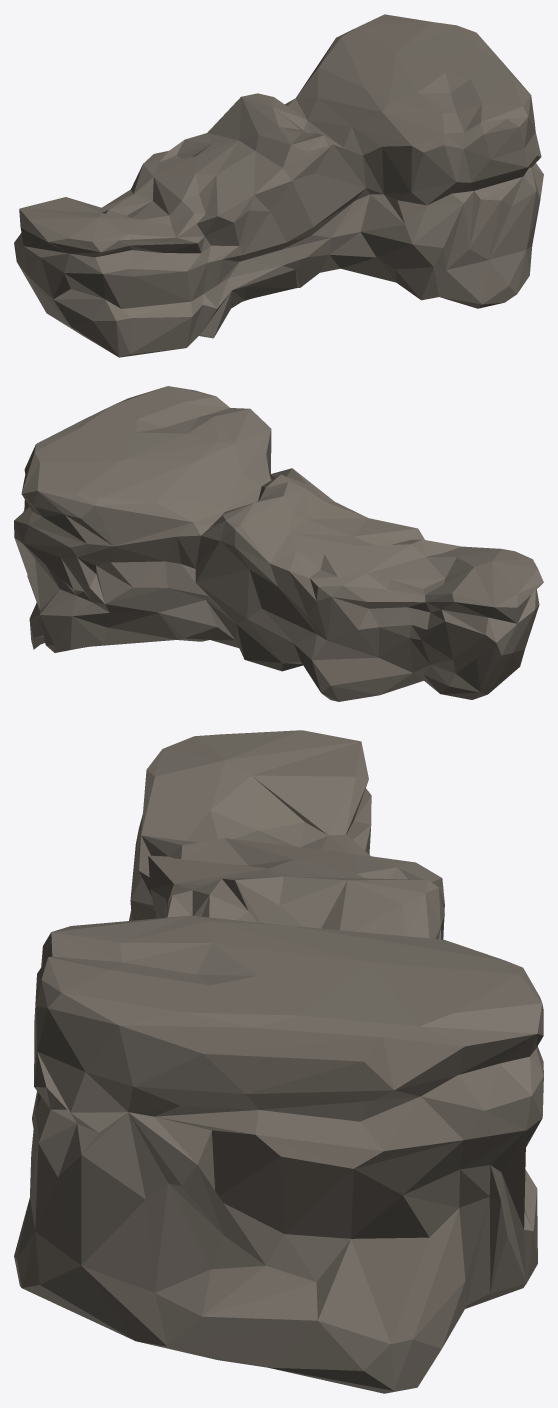
The model's file is SM_Env_Rock_Large_08.fbx.
3 renders of one model, top to bottom at view 1: azimuth 30°, elevation 25°; view 2: azimuth 150°, elevation 25°; view 3: azimuth 270°, elevation 25°, orthographic. The views are drawn at different scales.
Visible parts, largest first — view 1: SM_Env_Rock_Large_08; view 2: SM_Env_Rock_Large_08; view 3: SM_Env_Rock_Large_08.
Boxes of the visible parts, x1,y1,x2,y2 form: SM_Env_Rock_Large_08: (14, 14, 543, 357); SM_Env_Rock_Large_08: (14, 386, 543, 701); SM_Env_Rock_Large_08: (14, 730, 543, 1393).
Bounding box in the file's own units: 10.67 × 4.34 × 5.68.
